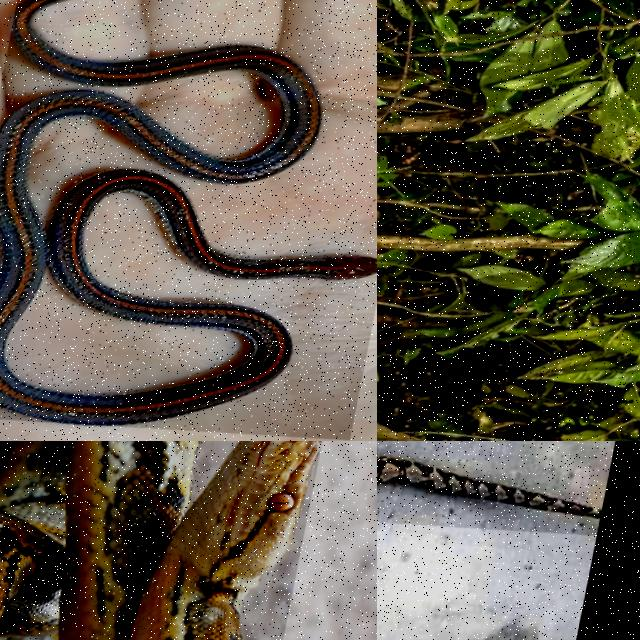Calliophis intestinalis: (0, 0, 376, 424)
Malayopython reticulatus: (0, 441, 321, 639), (377, 456, 601, 517)
snake: (0, 0, 376, 424), (0, 441, 321, 639), (377, 456, 601, 517)
